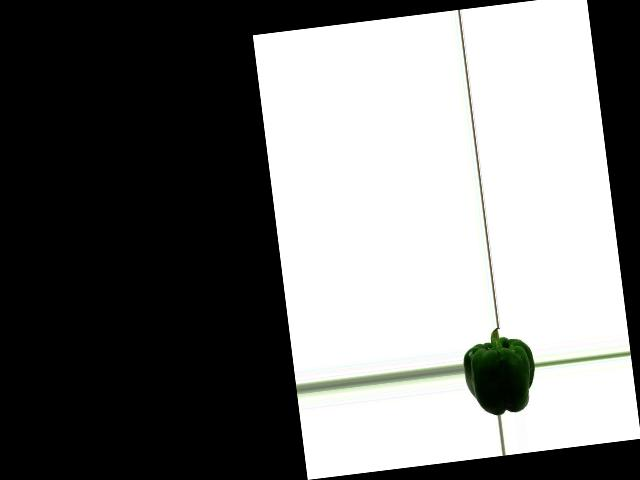bell_pepper: (461, 325, 539, 418)
